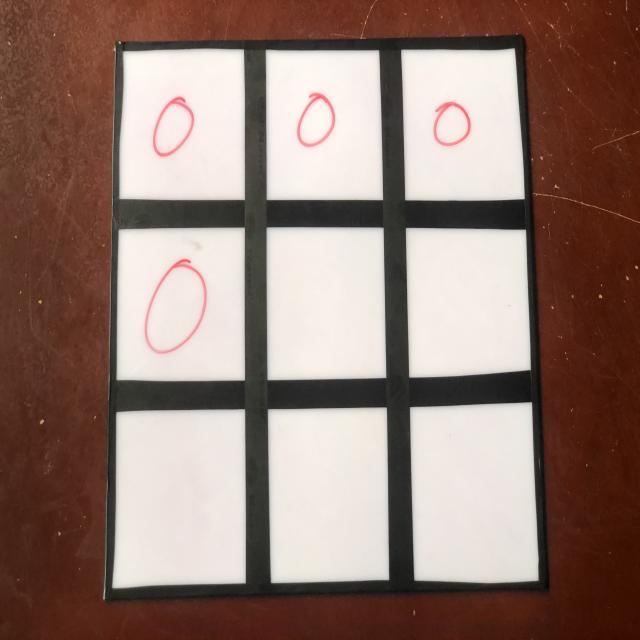null: (407, 401, 539, 586), (111, 410, 245, 587), (269, 407, 389, 584), (405, 225, 531, 377), (268, 226, 386, 380)
o: (144, 257, 210, 361), (149, 93, 197, 164), (296, 88, 337, 156), (431, 100, 476, 152)
table: (92, 31, 545, 596)
